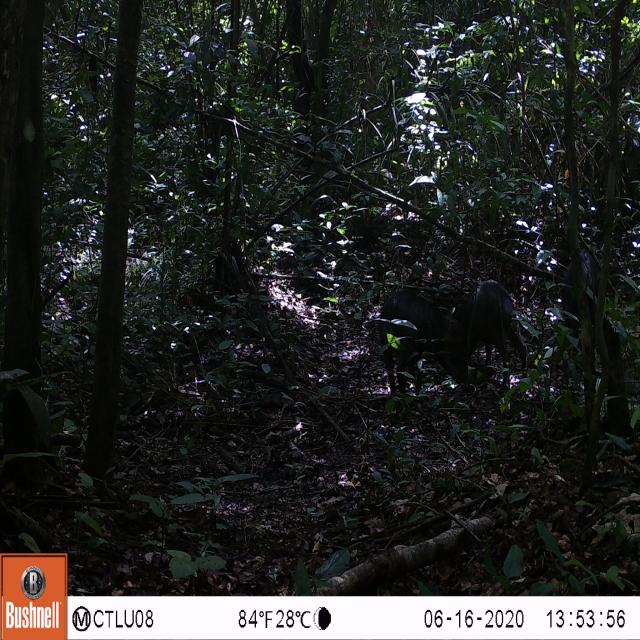Collared Peccary: (366, 263, 476, 411), (461, 266, 538, 378)
